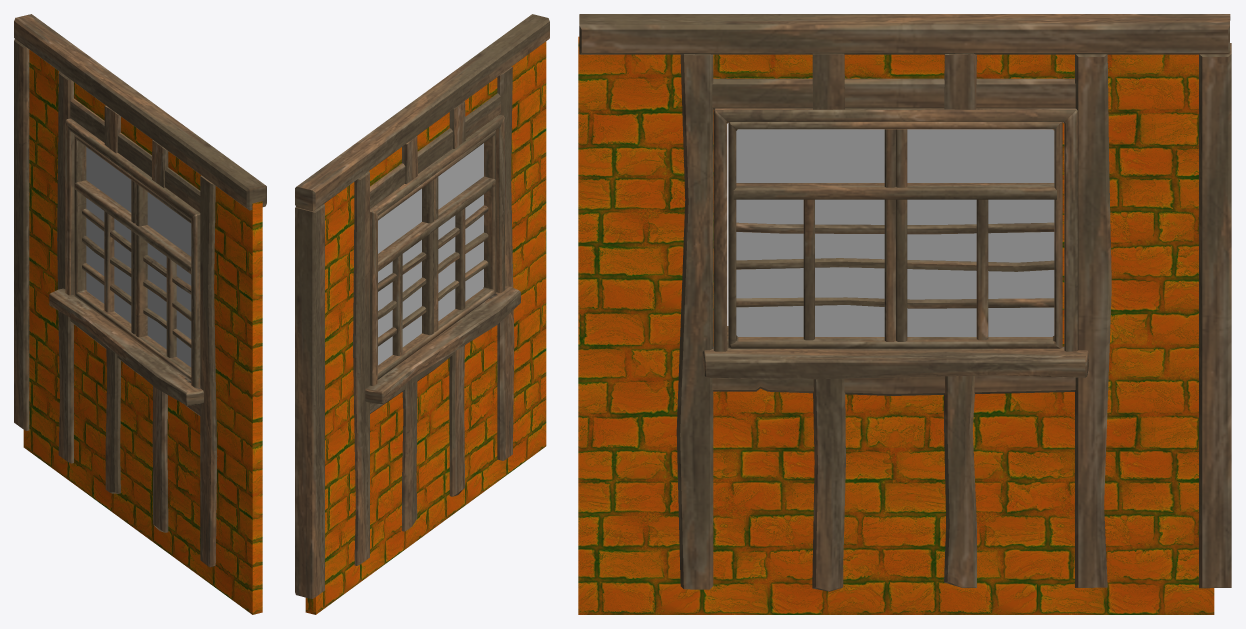
Rendered from SM_wall_12.fbx.
3 views of the same model, side by side, from view 1: azimuth 30°, elevation 25°; view 2: azimuth 150°, elevation 25°; view 3: azimuth 270°, elevation 25° (orthographic). The views are drawn at different scales.
Parts seen in each view (by area): view 1: SM_wall_12_LOD0; view 2: SM_wall_12_LOD0; view 3: SM_wall_12_LOD0.
Part boxes in pixels (x1,y1,x2,y2): SM_wall_12_LOD0: (14, 14, 266, 614); SM_wall_12_LOD0: (295, 14, 549, 614); SM_wall_12_LOD0: (578, 14, 1231, 614).
Size of the model in its own units: 54.47 by 400 by 400.
